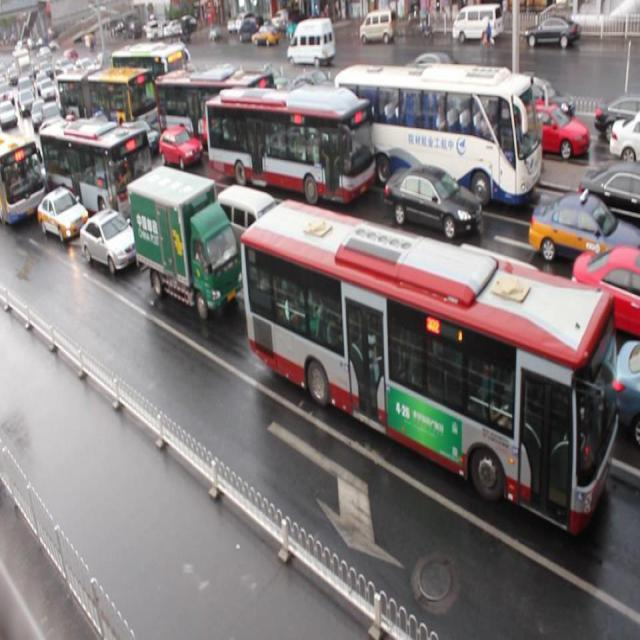BigCar: (255, 209, 608, 572), (121, 164, 240, 330), (217, 87, 379, 205)
car: (517, 180, 625, 270), (378, 162, 461, 258), (81, 209, 132, 292), (38, 188, 78, 252)
